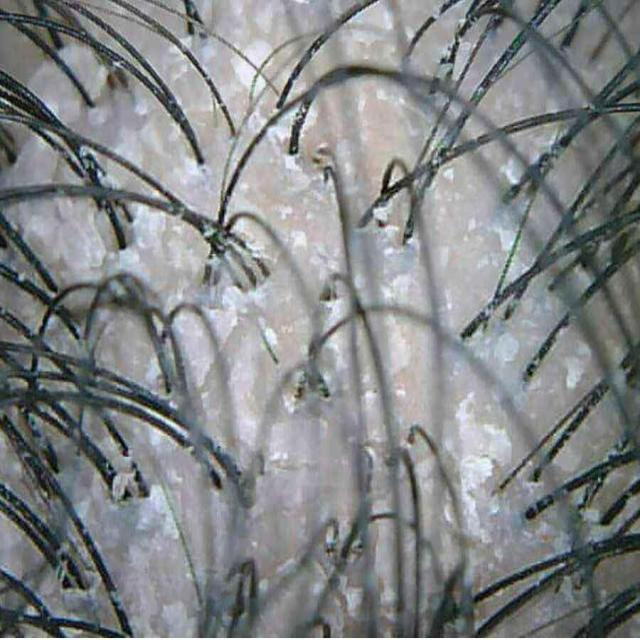d: (442, 391, 511, 541), (16, 197, 108, 276), (172, 310, 215, 389), (29, 61, 82, 123), (0, 133, 59, 187), (60, 43, 108, 97), (135, 486, 179, 539), (346, 2, 392, 46), (132, 208, 166, 252), (320, 585, 348, 638), (266, 102, 301, 144), (111, 455, 141, 503), (161, 601, 196, 638), (104, 248, 146, 278), (221, 282, 267, 309), (387, 325, 411, 376), (204, 308, 238, 344), (338, 575, 364, 618), (375, 223, 404, 258), (110, 125, 136, 159), (385, 273, 414, 302), (231, 55, 254, 89), (584, 519, 616, 543), (108, 161, 134, 189), (496, 332, 519, 362), (258, 317, 279, 349), (454, 42, 472, 77), (245, 38, 271, 61), (566, 357, 584, 389), (503, 156, 519, 185), (276, 557, 298, 577), (497, 228, 515, 252), (578, 507, 600, 525), (291, 230, 308, 248), (284, 156, 301, 170), (374, 206, 388, 221), (279, 206, 294, 219), (259, 578, 269, 595), (442, 168, 455, 181), (468, 216, 478, 231), (376, 88, 388, 100)
